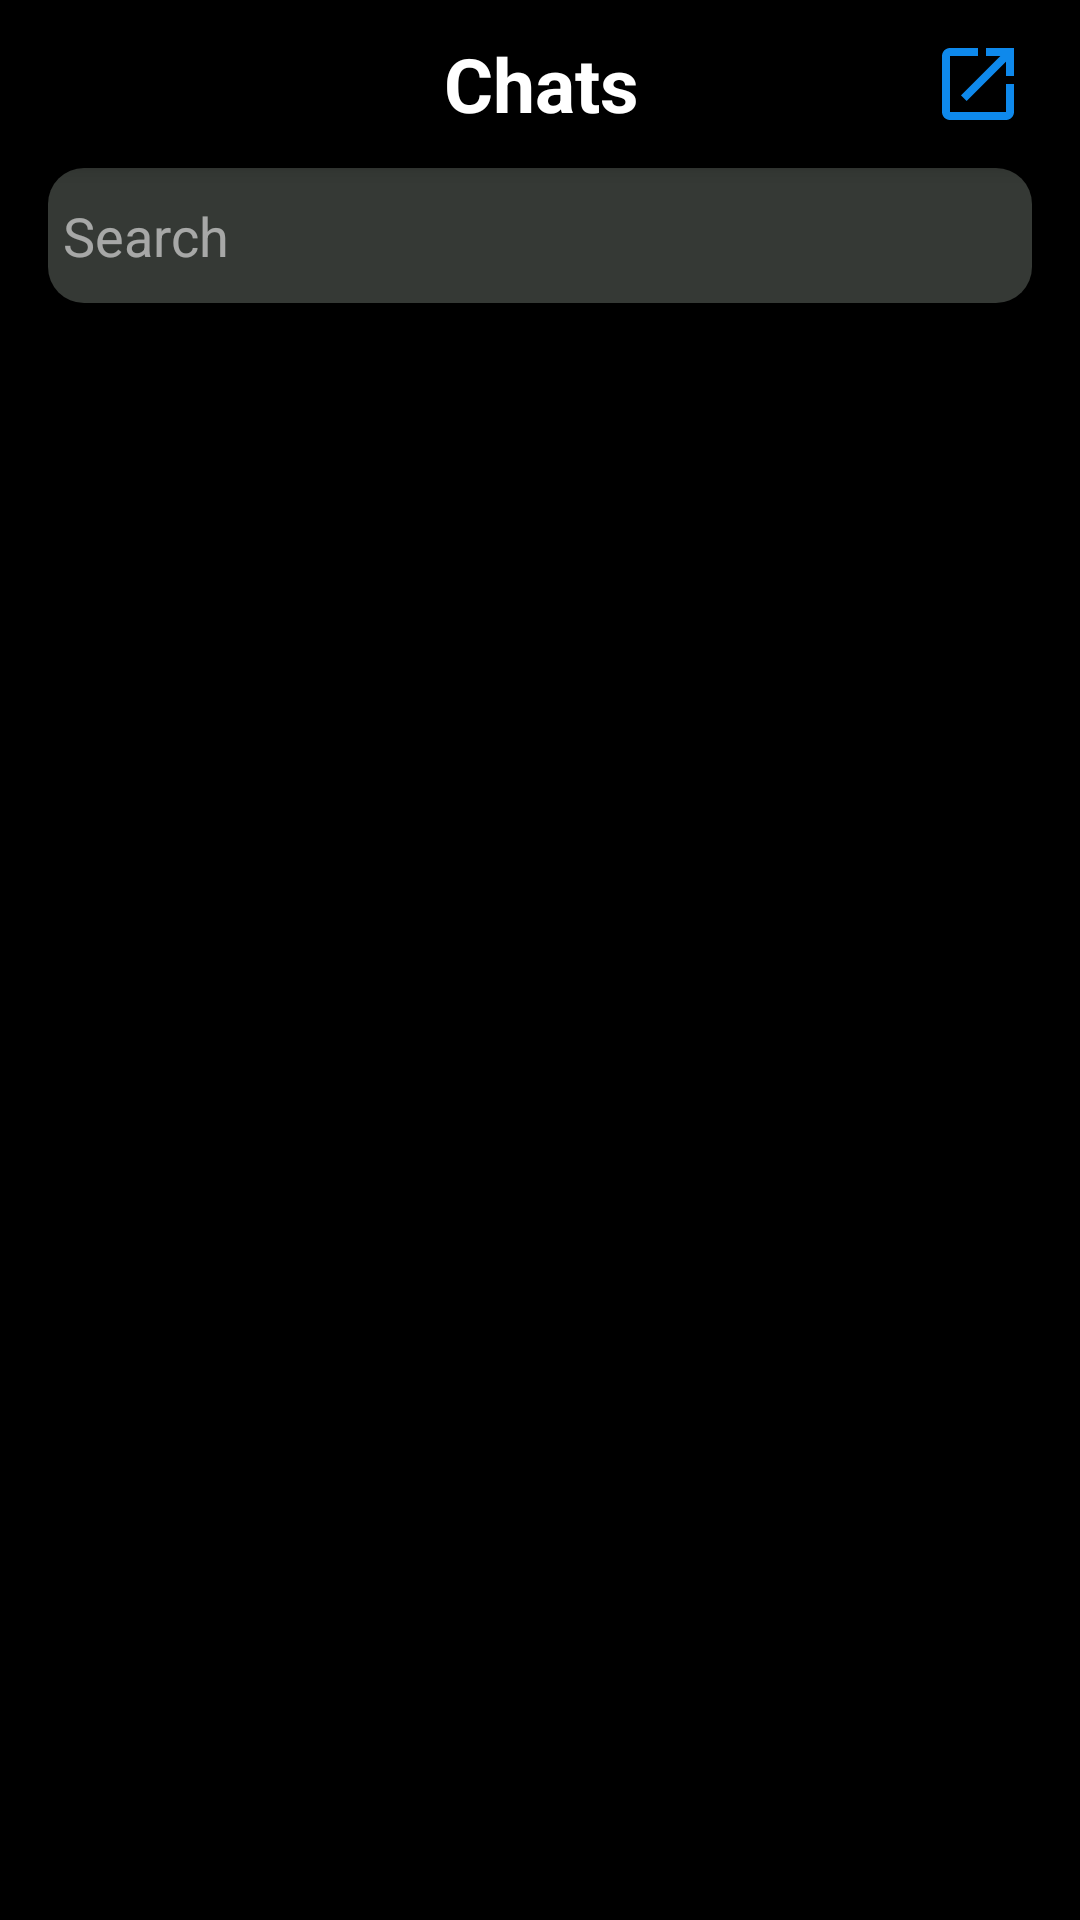

Named icons in this screenshot (1080 x 1920) and their centers, point (x, y):
launch: point (978, 84)
